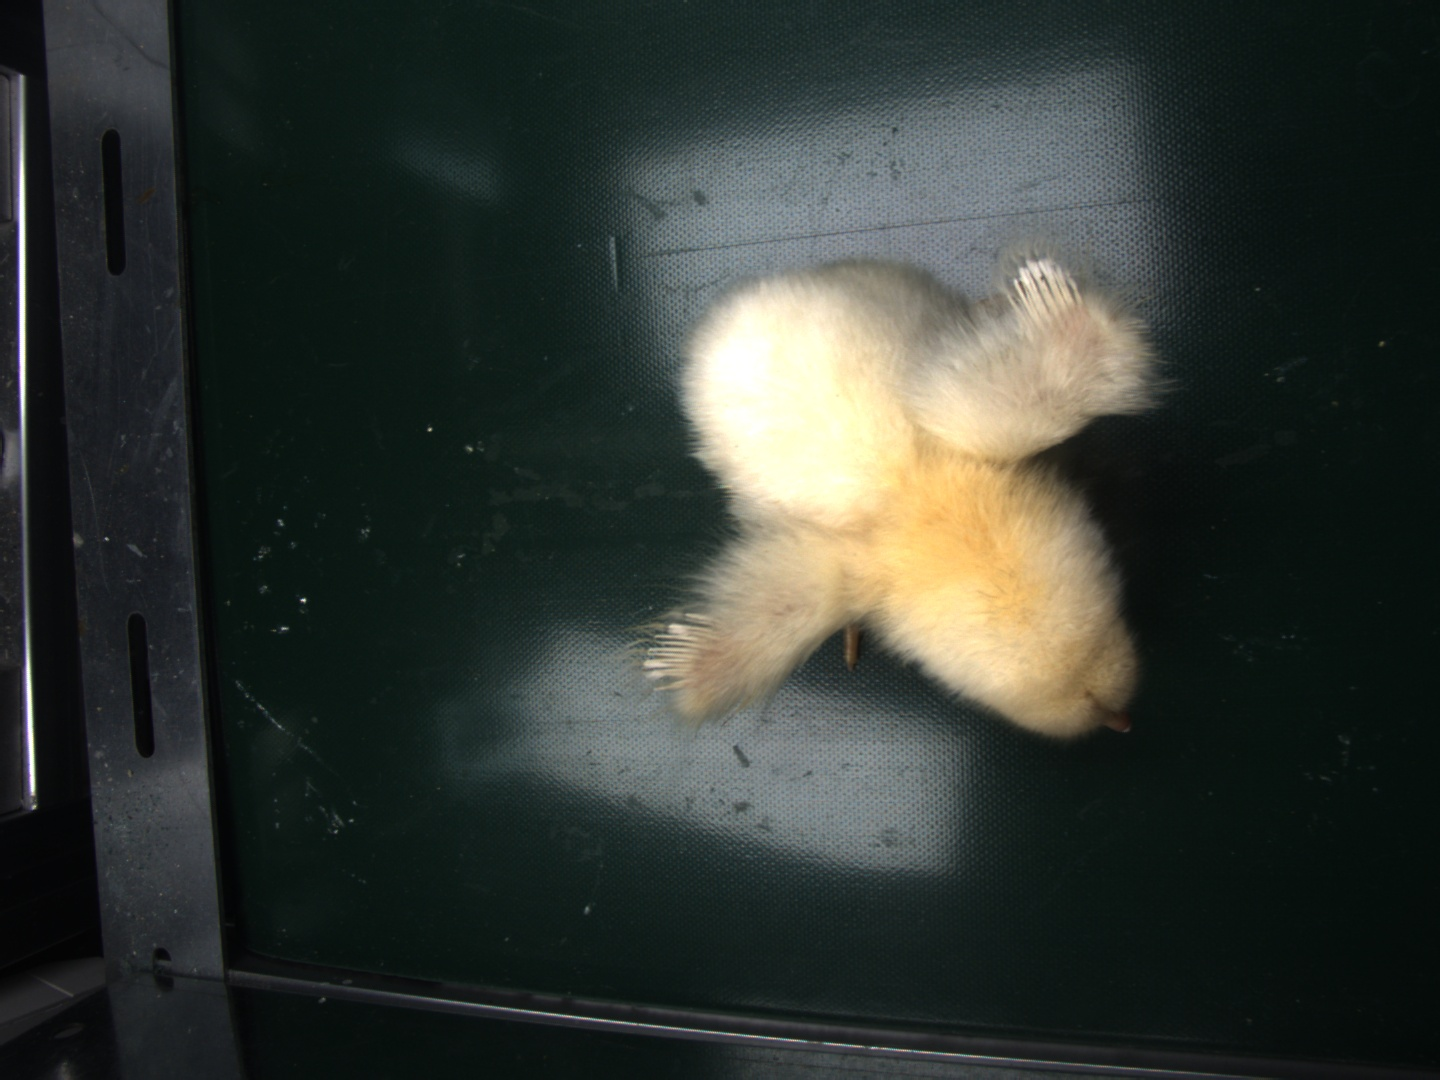male: (639, 610, 712, 689)
